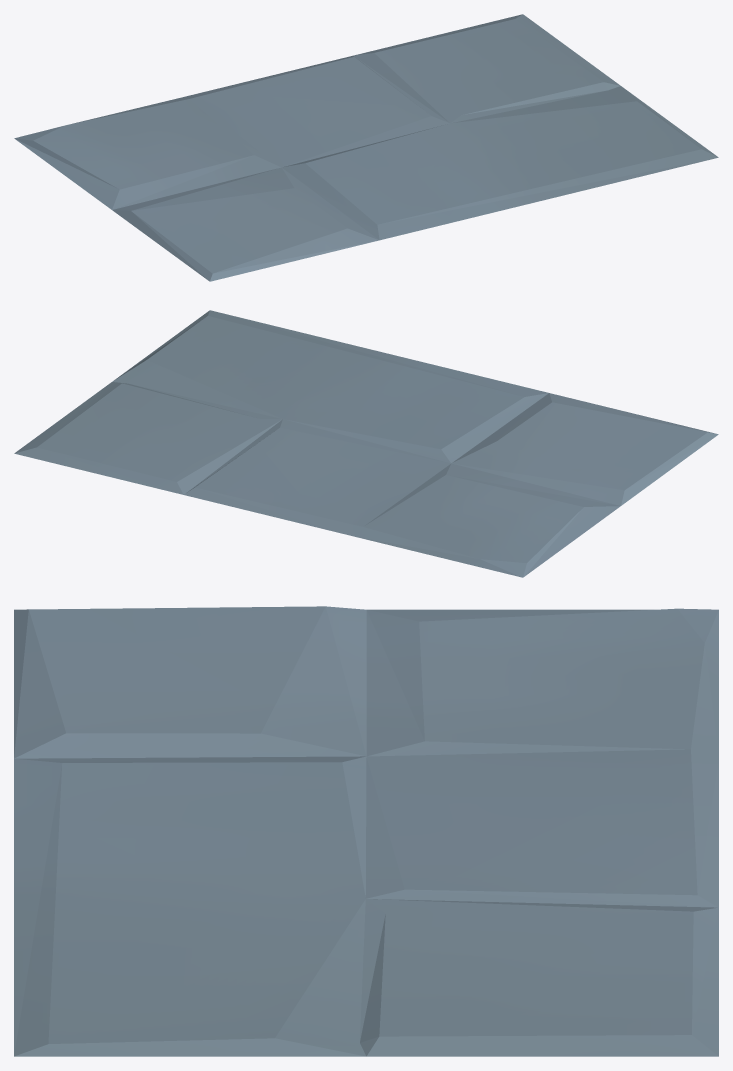
File: Floor_107.fbx
3 views of the same model, one above another, from view 1: azimuth 30°, elevation 25°; view 2: azimuth 150°, elevation 25°; view 3: azimuth 270°, elevation 25° (orthographic). The views are drawn at different scales.
Parts seen in each view (by area): view 1: terrain_ground_107; view 2: terrain_ground_107; view 3: terrain_ground_107.
Part boxes in pixels (left/top/right/bottom): terrain_ground_107: left=14, top=14, right=718, bottom=281; terrain_ground_107: left=14, top=310, right=718, bottom=577; terrain_ground_107: left=14, top=606, right=718, bottom=1056.
Size of the model in its own units: 373 by 4.38 by 249.
